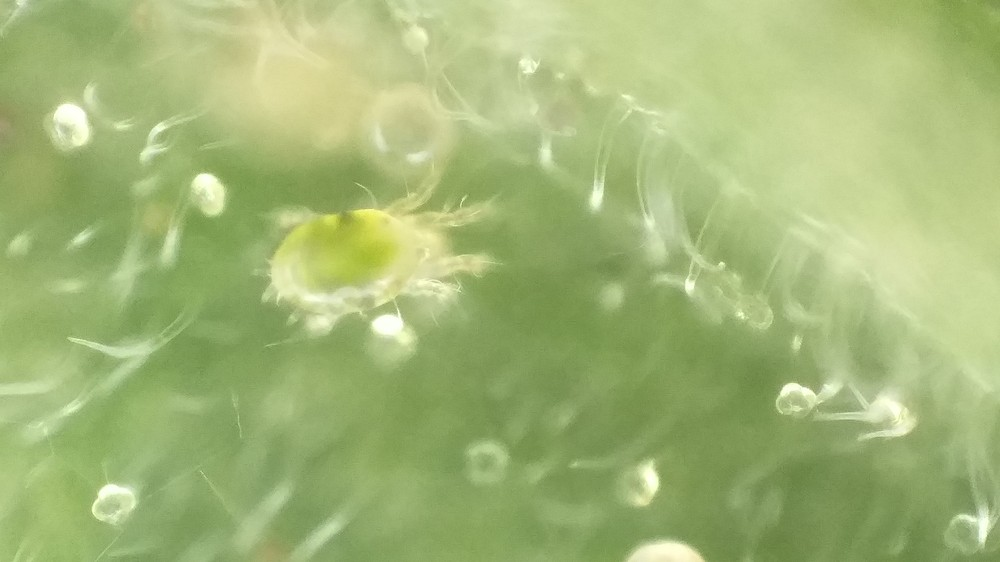Aracnido Rojo: (248, 172, 515, 341)
